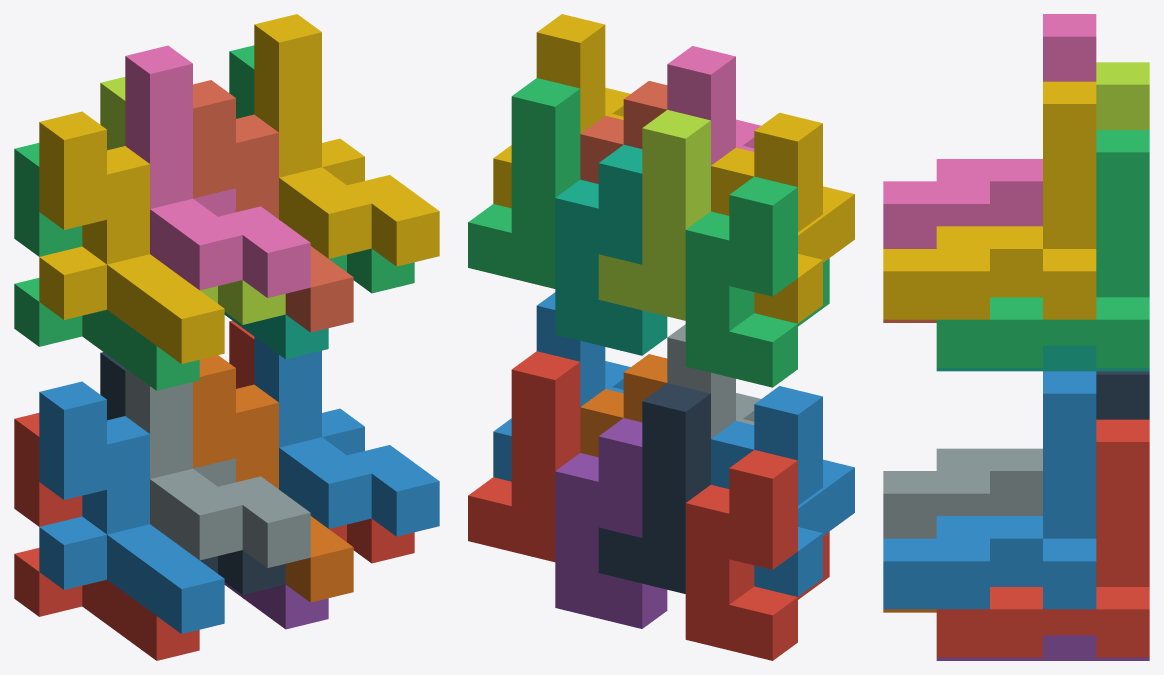
File: tiling.obj
3 renders of one model, left to right at view 1: azimuth 30°, elevation 25°; view 2: azimuth 150°, elevation 25°; view 3: azimuth 270°, elevation 25°, orthographic. The views are drawn at different scales.
Visible parts, largest first — view 1: copy_1_domain_4, copy_1_domain_2, copy_2_domain_8, copy_2_domain_4, copy_2_domain_6, copy_2_domain_2, copy_1_domain_8, copy_1_domain_6, copy_1_domain_1, copy_1_domain_3, copy_2_domain_7, copy_2_domain_3 (+4 smaller); view 2: copy_1_domain_1, copy_1_domain_3, copy_1_domain_7, copy_1_domain_5, copy_2_domain_5, copy_2_domain_7, copy_2_domain_1, copy_2_domain_3, copy_1_domain_4, copy_1_domain_2, copy_2_domain_8, copy_2_domain_4 (+4 smaller); view 3: copy_2_domain_6, copy_2_domain_8, copy_2_domain_5, copy_2_domain_7, copy_2_domain_4, copy_2_domain_2, copy_2_domain_3, copy_2_domain_1, copy_1_domain_7, copy_1_domain_5.
Boxes of the visible parts, x1=… form: copy_1_domain_4: x1=39, y1=111, x2=224, y2=363; copy_1_domain_2: x1=39, y1=381, x2=224, y2=633; copy_2_domain_8: x1=254, y1=14, x2=439, y2=266; copy_2_domain_4: x1=125, y1=45, x2=310, y2=297; copy_2_domain_6: x1=254, y1=337, x2=439, y2=536; copy_2_domain_2: x1=125, y1=368, x2=310, y2=567; copy_1_domain_8: x1=193, y1=80, x2=353, y2=332; copy_1_domain_6: x1=193, y1=355, x2=353, y2=602; copy_1_domain_1: x1=14, y1=413, x2=199, y2=660; copy_1_domain_3: x1=14, y1=143, x2=199, y2=390; copy_2_domain_7: x1=229, y1=45, x2=414, y2=293; copy_2_domain_3: x1=100, y1=77, x2=285, y2=324; copy_1_domain_1: x1=685, y1=450, x2=829, y2=660; copy_1_domain_3: x1=685, y1=176, x2=829, y2=387; copy_1_domain_7: x1=555, y1=145, x2=667, y2=355; copy_1_domain_5: x1=555, y1=418, x2=667, y2=628; copy_2_domain_5: x1=468, y1=351, x2=580, y2=562; copy_2_domain_7: x1=468, y1=78, x2=580, y2=288; copy_2_domain_1: x1=598, y1=383, x2=710, y2=593; copy_2_domain_3: x1=598, y1=110, x2=710, y2=320; copy_1_domain_4: x1=711, y1=112, x2=854, y2=323; copy_1_domain_2: x1=711, y1=386, x2=854, y2=596; copy_2_domain_8: x1=493, y1=14, x2=630, y2=208; copy_2_domain_4: x1=667, y1=46, x2=760, y2=165; copy_2_domain_6: x1=883, y1=371, x2=1096, y2=609; copy_2_domain_8: x1=883, y1=81, x2=1096, y2=319; copy_2_domain_5: x1=936, y1=419, x2=1149, y2=657; copy_2_domain_7: x1=936, y1=130, x2=1149, y2=367; copy_2_domain_4: x1=883, y1=14, x2=1096, y2=248; copy_2_domain_2: x1=883, y1=448, x2=1042, y2=538; copy_2_domain_3: x1=1096, y1=62, x2=1149, y2=129; copy_2_domain_1: x1=1096, y1=371, x2=1149, y2=419; copy_1_domain_7: x1=936, y1=345, x2=1149, y2=371; copy_1_domain_5: x1=936, y1=635, x2=1149, y2=660.
Bounding box in the file's own units: 7 × 12 × 5.
